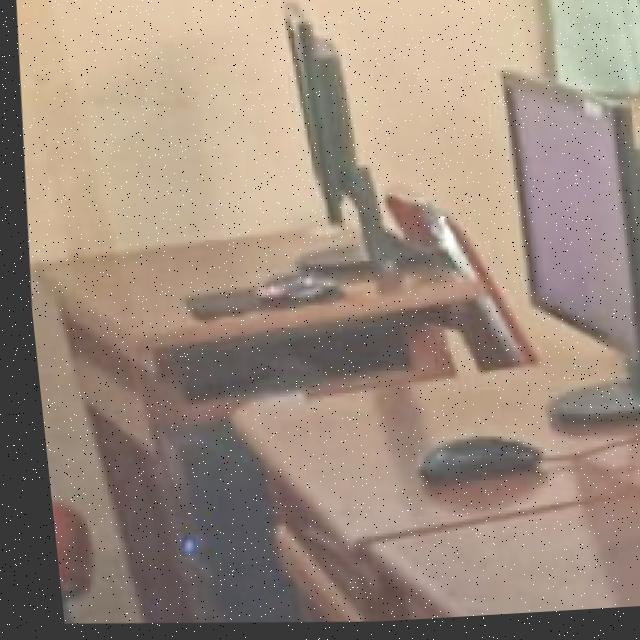offscreen: (504, 81, 624, 357), (287, 7, 356, 227)
